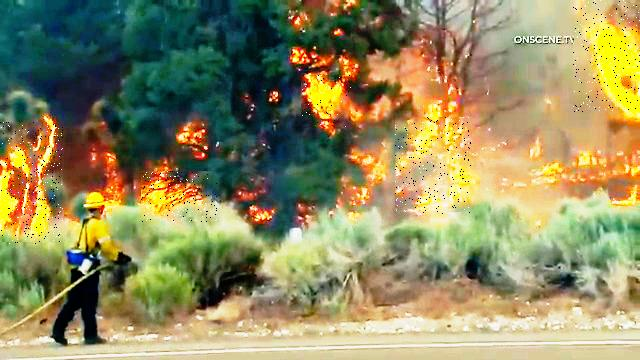fire: (0, 123, 63, 245), (573, 0, 640, 112), (396, 118, 472, 215), (142, 172, 218, 223), (302, 76, 354, 128)
